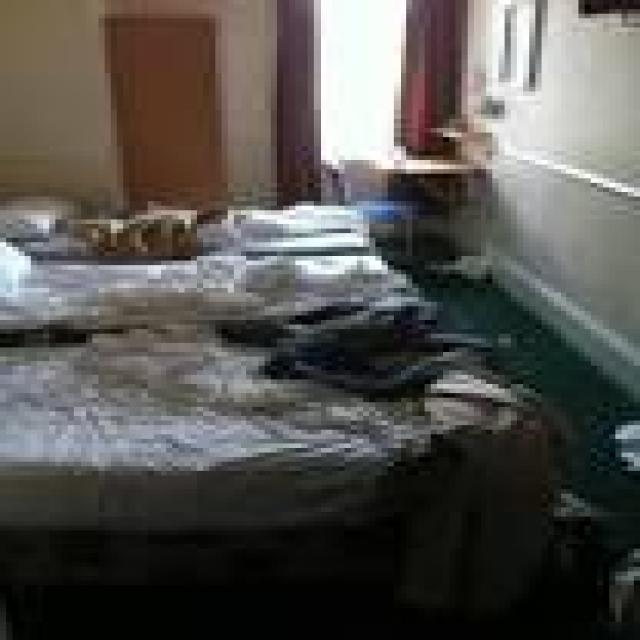mess: (8, 265, 500, 534), (74, 203, 372, 252)
